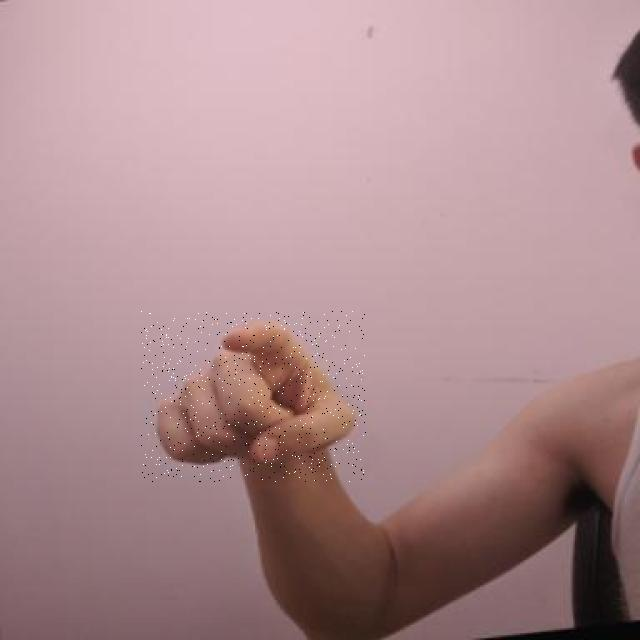Z: (141, 311, 366, 482)
